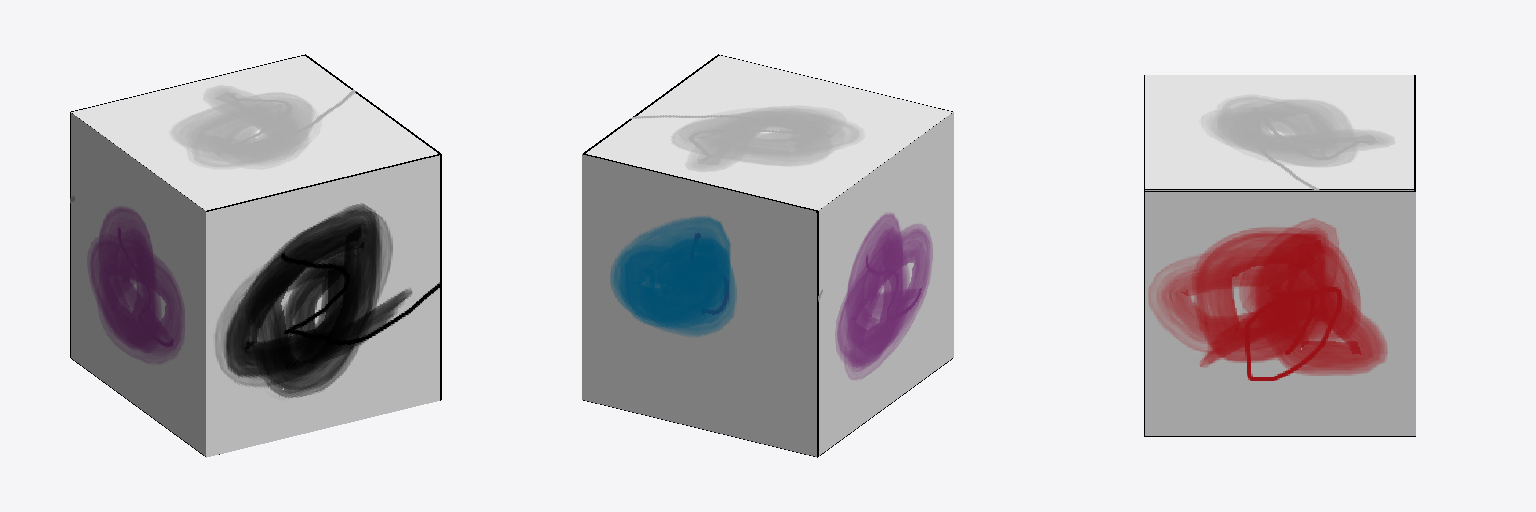
The picture shows the model from 3 angles: view 1: azimuth 30°, elevation 25°; view 2: azimuth 150°, elevation 25°; view 3: azimuth 270°, elevation 25°; orthographic projection.
Visible parts, largest first — view 1: Cube1; view 2: Cube1; view 3: Cube1.
Boxes of the visible parts, x1=… form: Cube1: x1=70, y1=54, x2=441, y2=457; Cube1: x1=582, y1=54, x2=953, y2=457; Cube1: x1=1144, y1=75, x2=1415, y2=436.
Size of the model in its own units: 2 by 2 by 2.
Materials: 1 (1 with a texture image).